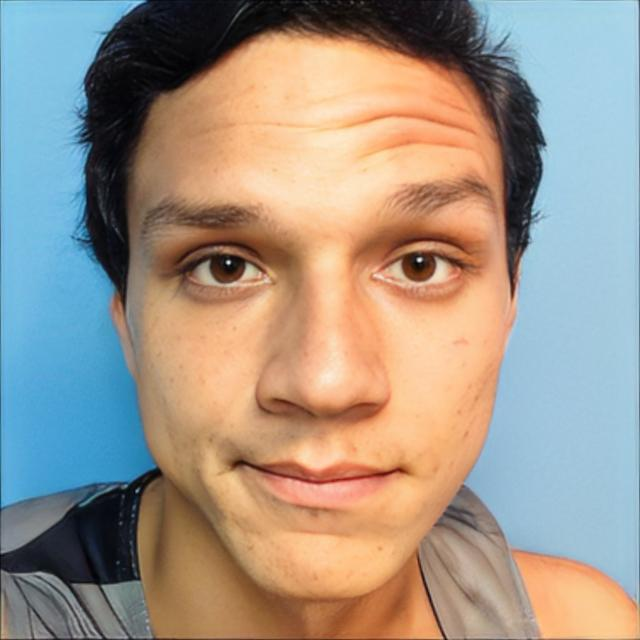content: (124, 26, 514, 596)
